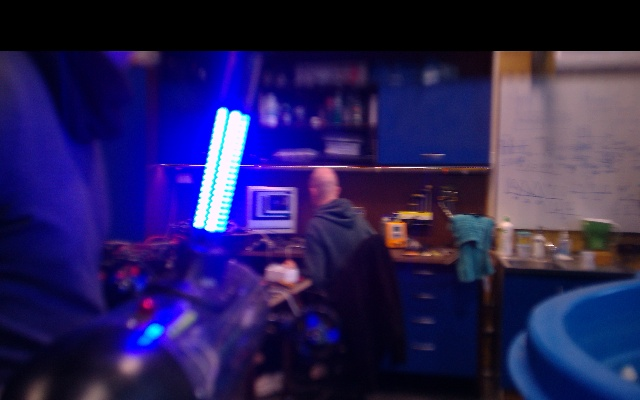blue: (191, 106, 252, 233)
